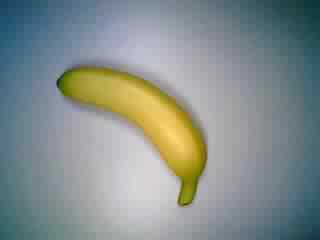banana: (52, 59, 217, 216)
